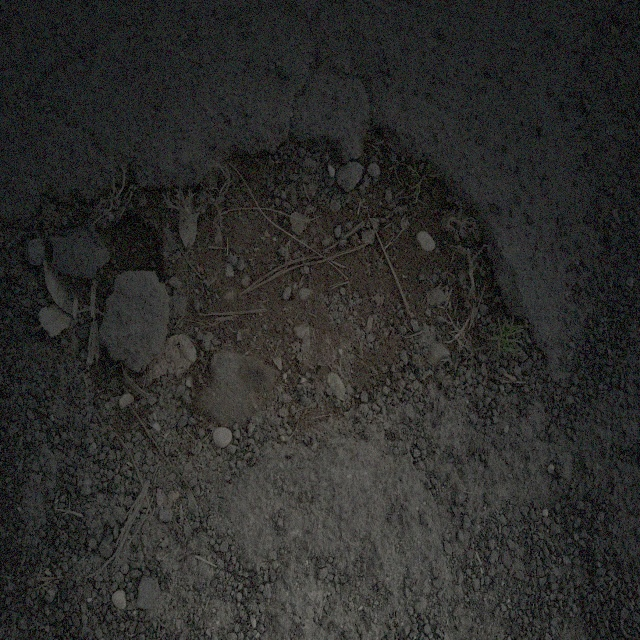pothole: (99, 114, 533, 407)
